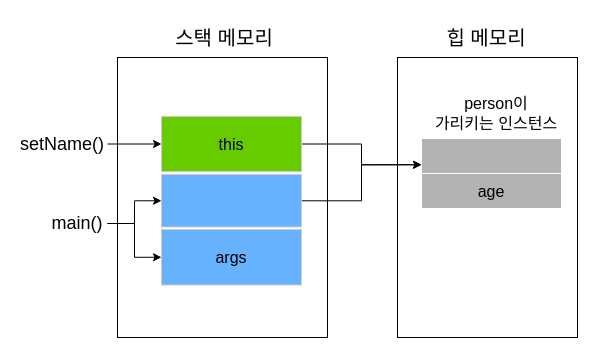
This 595x355 diagram has some shape labels left out. Each missing label, with the box of its shape:
name: (420, 138, 562, 174)
person: (160, 174, 302, 227)
